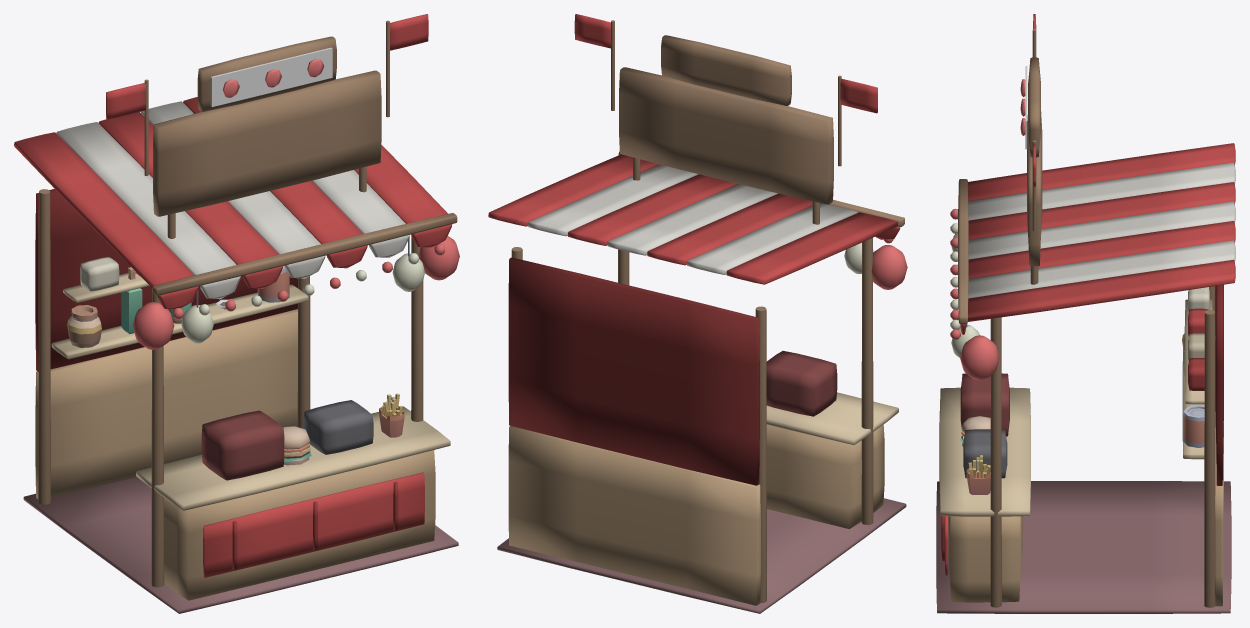
The model's file is stall_rival.glb.
The picture shows the model from 3 angles, left to right: view 1: azimuth 30°, elevation 25°; view 2: azimuth 150°, elevation 25°; view 3: azimuth 270°, elevation 25°; orthographic projection. The views are drawn at different scales.
Parts seen in each view (by area): view 1: body, level3, level2; view 2: body, level3, level2; view 3: body, level2, level3.
Part boxes in pixels (box(x1,y1,x2,y2)): body: box(14, 70, 458, 613); level3: box(106, 14, 428, 175); level2: box(63, 236, 459, 349); body: box(488, 67, 906, 613); level3: box(574, 14, 877, 166); level2: box(871, 239, 907, 289); body: box(936, 112, 1235, 613); level2: box(950, 208, 1212, 404); level3: box(1020, 14, 1040, 231).
Bounding box in the file's own units: 3.2 × 4.68 × 2.73.
